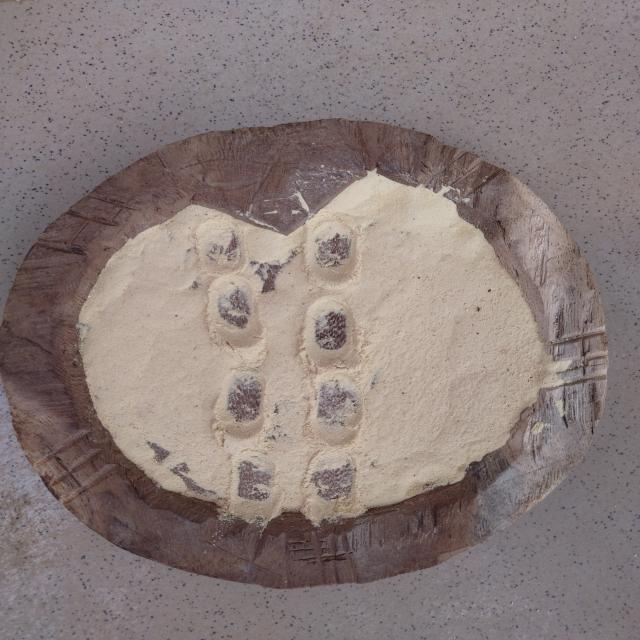single: (306, 370, 366, 448), (215, 364, 272, 446), (206, 276, 264, 356), (302, 298, 364, 369), (221, 448, 281, 516), (304, 447, 364, 515), (305, 220, 363, 288), (190, 218, 247, 277)
